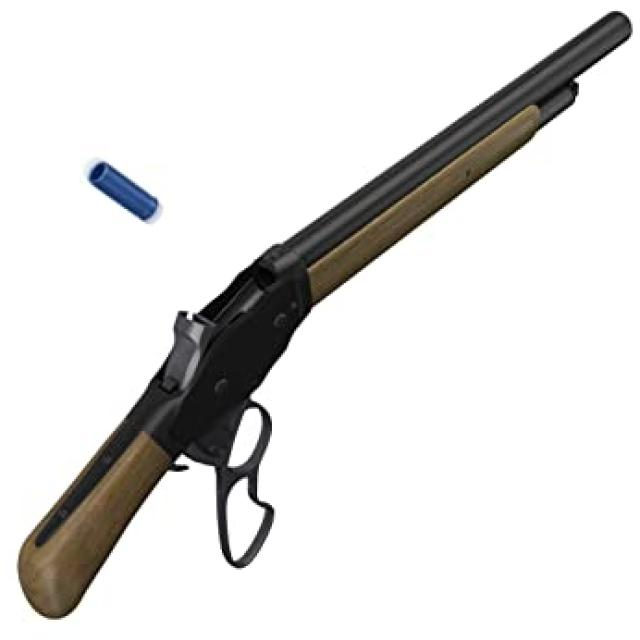Weapon: (18, 13, 629, 616)
